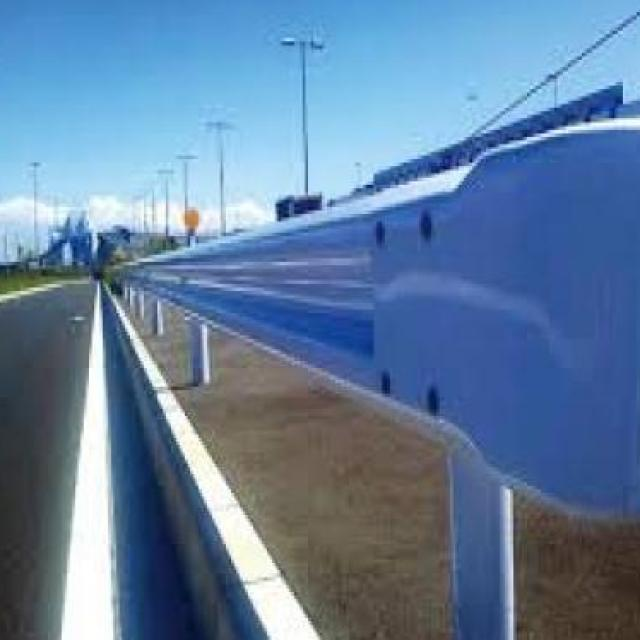Guard rail: (118, 98, 640, 638)
